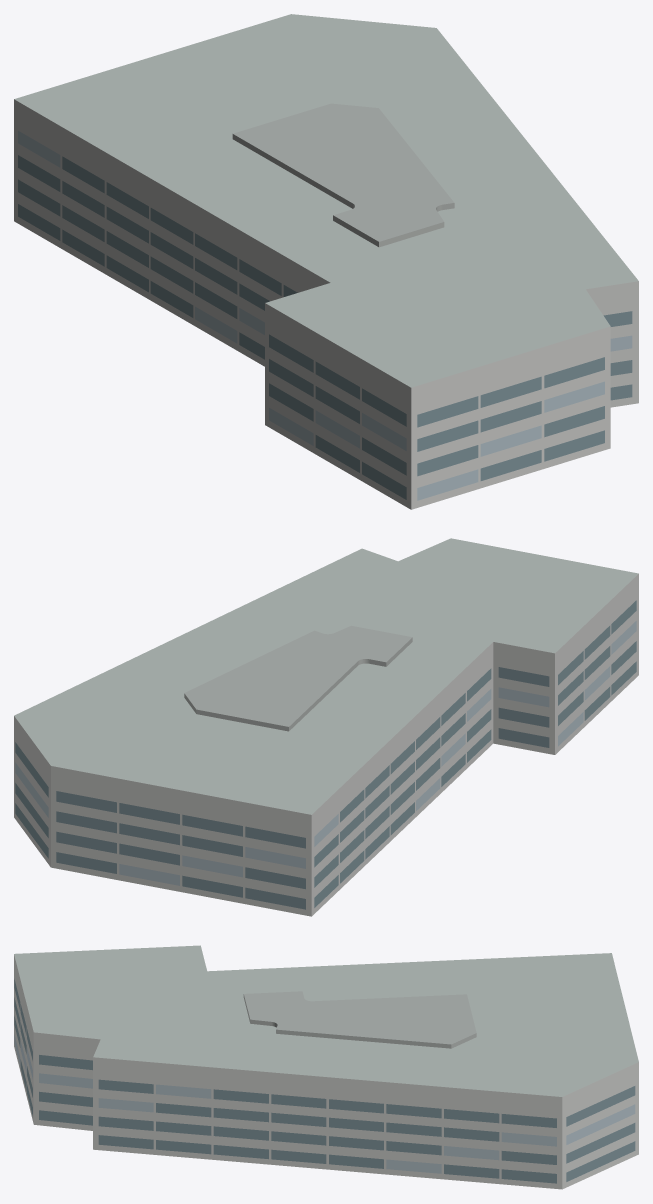
Rendered from landmark-ca3e90c7-f6ce-4c0d-b5db-89b071b3c166.glb.
3 views of the same model, one above another, from view 1: azimuth 30°, elevation 25°; view 2: azimuth 150°, elevation 25°; view 3: azimuth 270°, elevation 25° (orthographic). The views are drawn at different scales.
Visible parts, largest first — view 1: landmark-ca3e90c7-f6ce-4c0d-b5db-89b071b3c166; view 2: landmark-ca3e90c7-f6ce-4c0d-b5db-89b071b3c166; view 3: landmark-ca3e90c7-f6ce-4c0d-b5db-89b071b3c166.
Part boxes in pixels (x1=…): landmark-ca3e90c7-f6ce-4c0d-b5db-89b071b3c166: x1=14, y1=14, x2=638, y2=509; landmark-ca3e90c7-f6ce-4c0d-b5db-89b071b3c166: x1=14, y1=538, x2=638, y2=916; landmark-ca3e90c7-f6ce-4c0d-b5db-89b071b3c166: x1=14, y1=945, x2=638, y2=1189.
Bounding box in the file's own units: 53.66 × 15.94 × 93.47.
